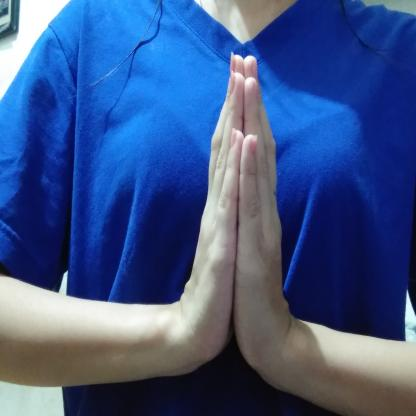sorry: (170, 45, 306, 395)
